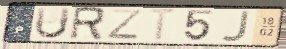5: (183, 9, 217, 43)
J: (219, 9, 252, 43)
R: (67, 6, 107, 42)
T: (146, 7, 181, 43)
U: (33, 6, 73, 41)
Z: (105, 8, 144, 41)
